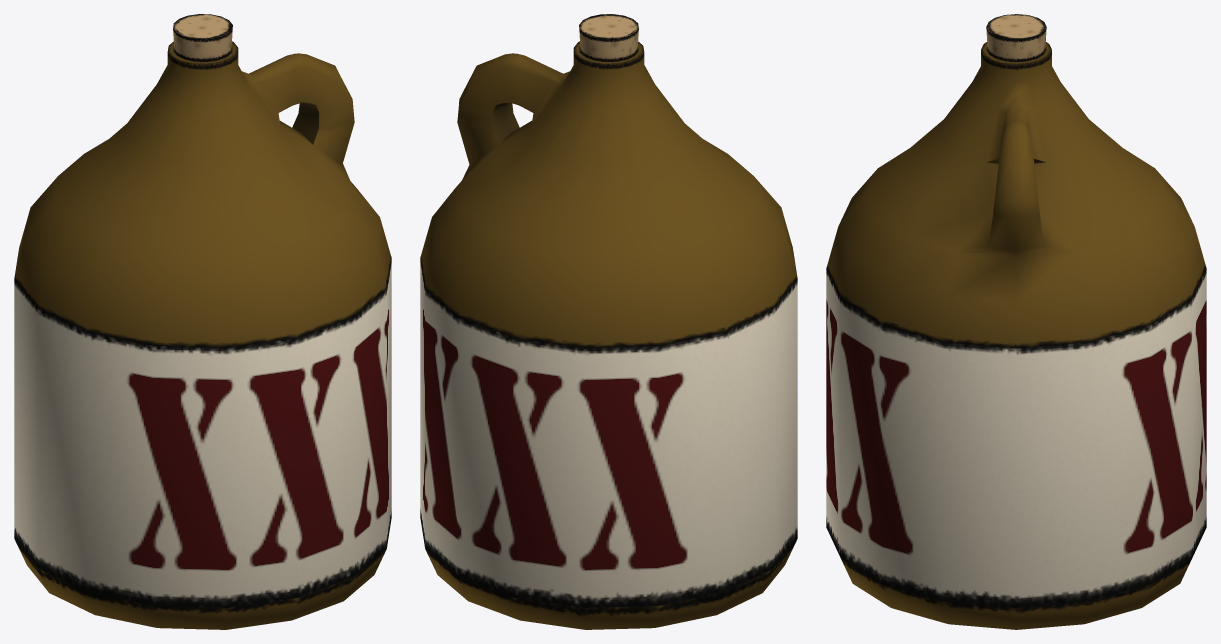
The model's file is jug.fbx.
3 renders of one model, left to right at view 1: azimuth 30°, elevation 25°; view 2: azimuth 150°, elevation 25°; view 3: azimuth 270°, elevation 25°, orthographic.
Parts seen in each view (by area): view 1: jug; view 2: jug; view 3: jug.
Boxes of the visible parts, box(x1,y1,x2,y2) form: jug: box(14, 14, 391, 629); jug: box(420, 14, 797, 629); jug: box(826, 14, 1206, 629).
Size of the model in its own units: 200 by 313 by 200.
